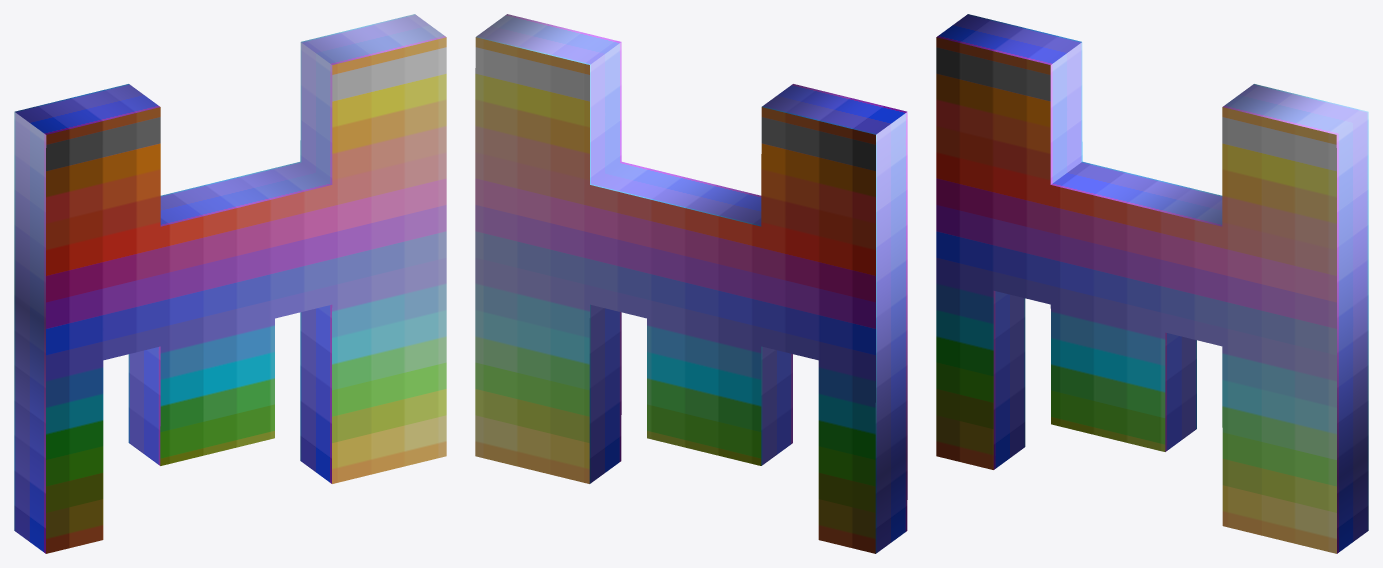
The picture shows the model from 3 angles, left to right: view 1: azimuth 30°, elevation 25°; view 2: azimuth 150°, elevation 25°; view 3: azimuth 330°, elevation 25°; orthographic projection.
Parts seen in each view (by area): view 1: m; view 2: m; view 3: m.
Boxes of the visible parts, box(x1,y1,x2,y2) form: m: box(14, 14, 446, 553); m: box(475, 14, 907, 553); m: box(936, 14, 1368, 553).
Size of the model in its own units: 0.5833 by 0.5834 by 0.0803.
1 material, 1 textured.
